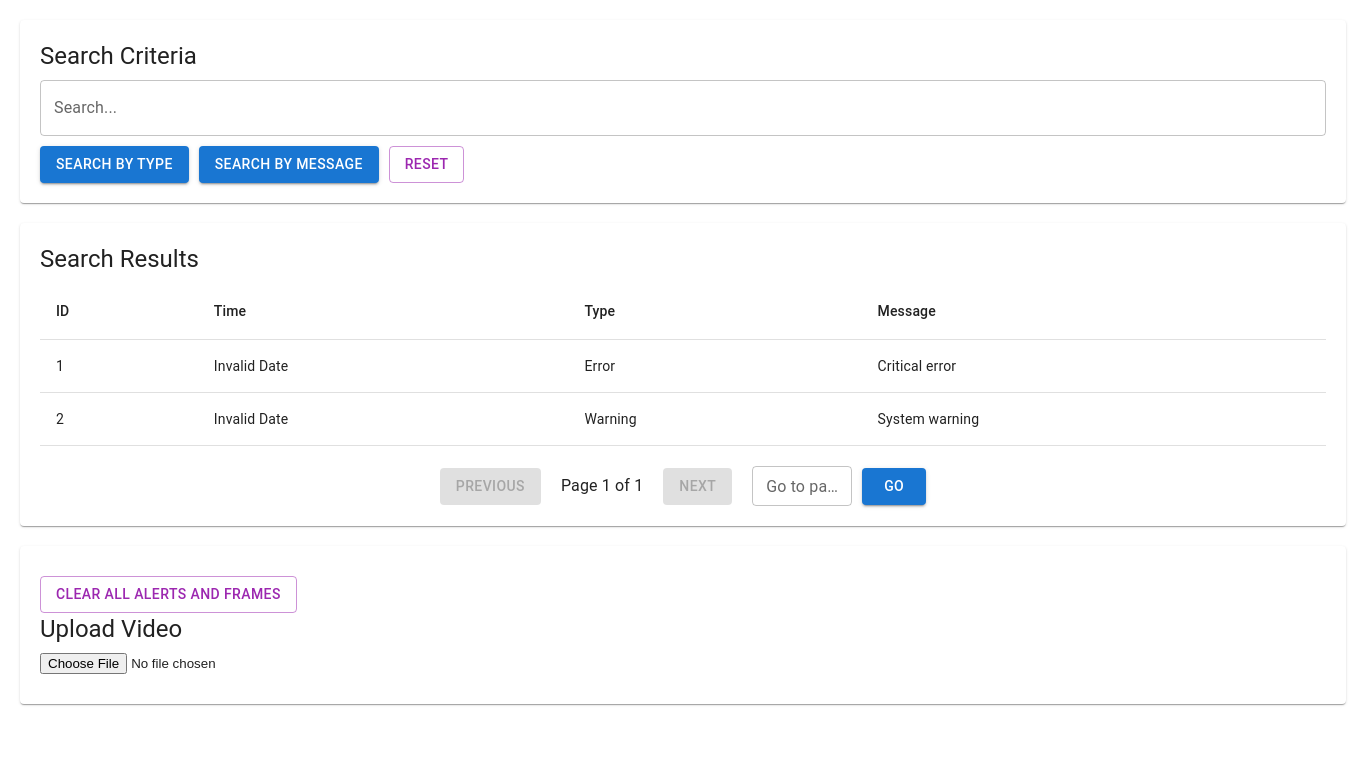
Test: searches by type and filters table
This screenshot has width=1366, height=768.
Expected: the number of rows is 3, top-left (40, 283), bottom-right (1326, 340); top-left (40, 340), bottom-right (1326, 393); top-left (40, 393), bottom-right (1326, 446)
Type "Error" into the field labelled "Search..." at coordinates (683, 108), box top-left (40, 80), bottom-right (1326, 136)
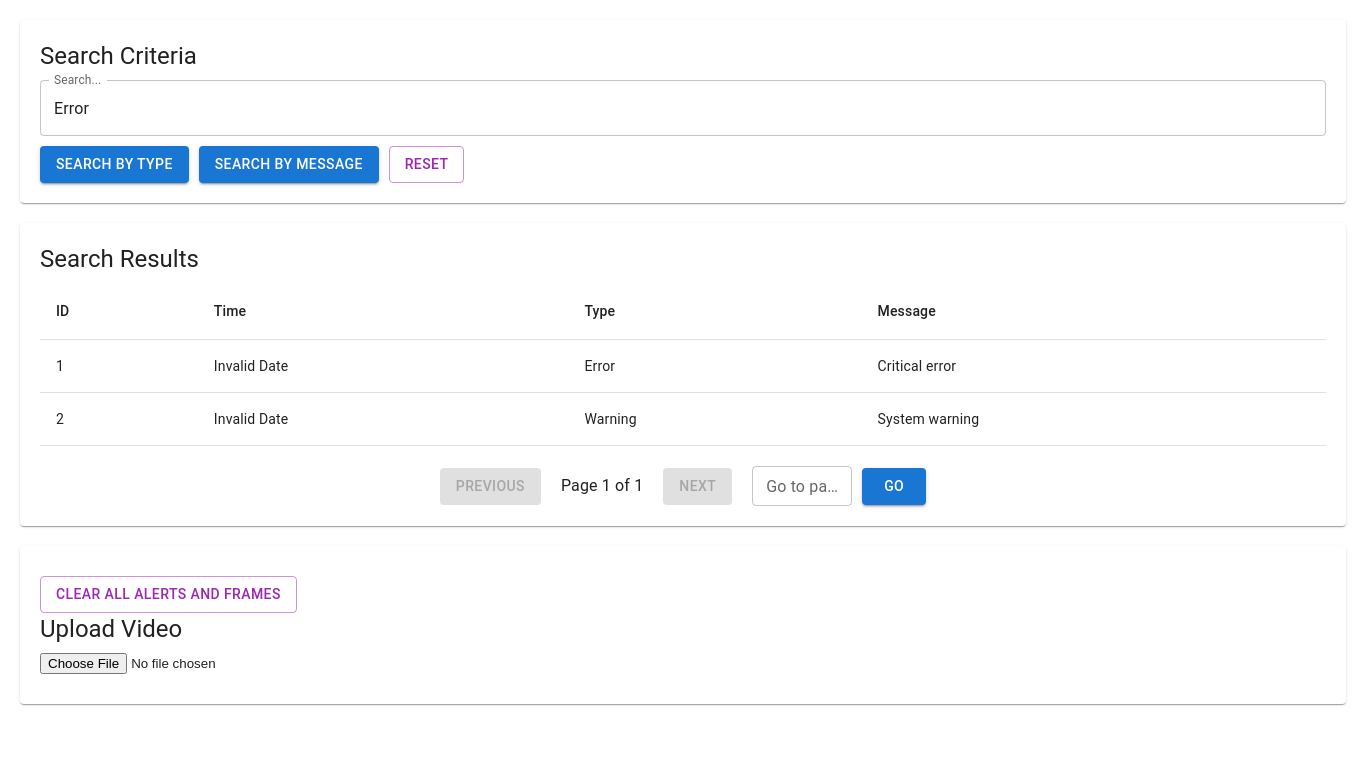
Click the button "Search by Type" at coordinates (114, 165), box top-left (40, 146), bottom-right (189, 183)
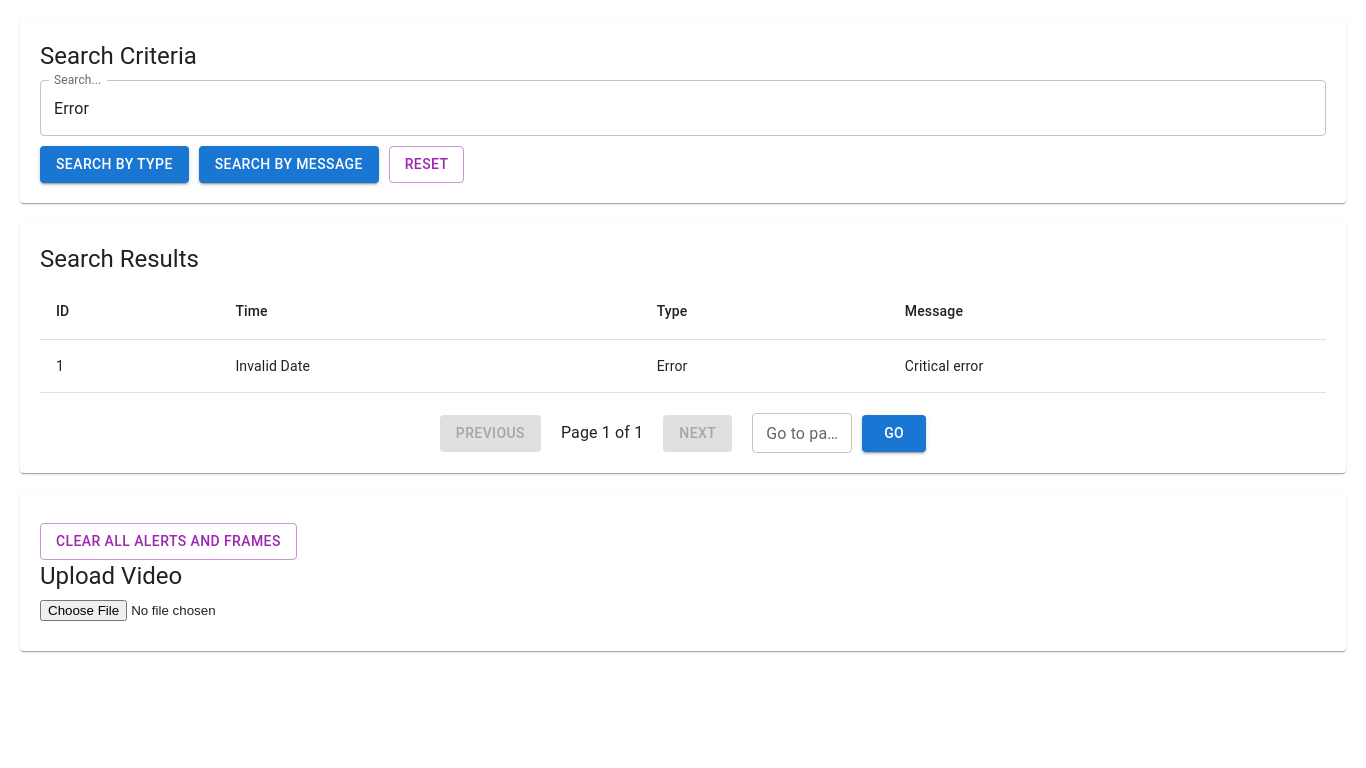
Expected: the text "Critical error" is shown, top-left (889, 340), bottom-right (1326, 393)
Result: the text "System warning" is gone
